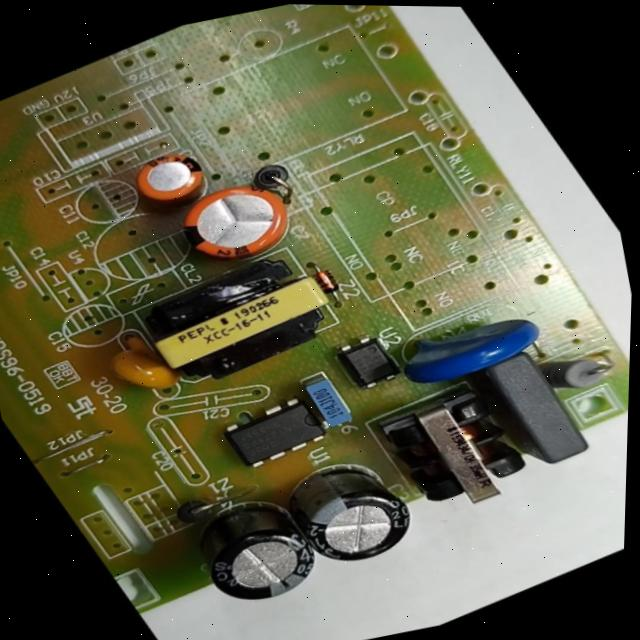Cap1: (147, 153, 333, 288)
Cap2: (110, 130, 235, 227)
Cap3: (253, 428, 449, 592)
Cap4: (145, 465, 352, 636)
MOSFET: (190, 373, 361, 490)
Mov: (370, 279, 568, 410)
Resistor: (528, 338, 625, 411)
Transformer: (113, 226, 366, 407), (359, 361, 559, 535)
